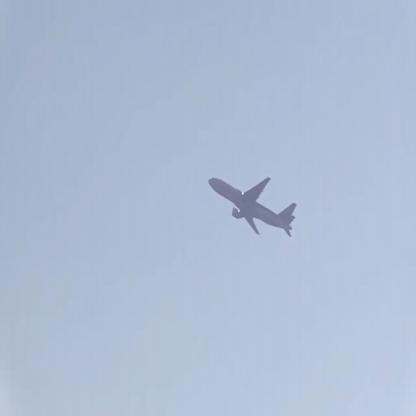CIV_Plane: (202, 165, 296, 243)
